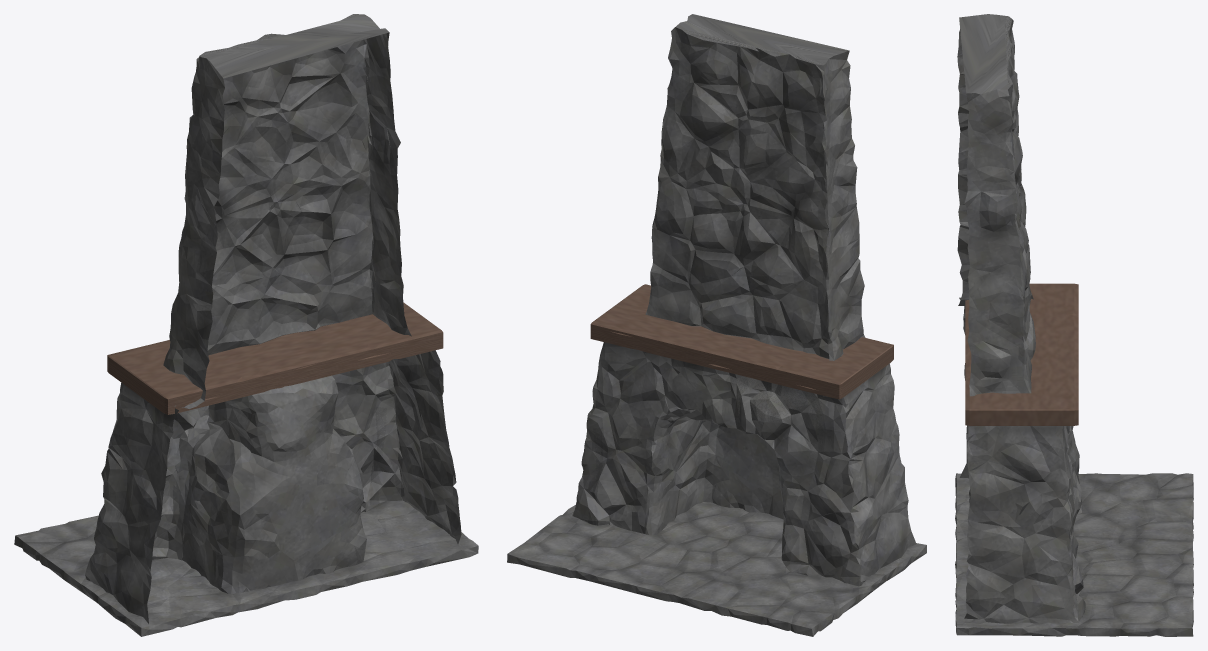
File: fireplace.fbx
3 views of the same model, side by side, from view 1: azimuth 30°, elevation 25°; view 2: azimuth 150°, elevation 25°; view 3: azimuth 270°, elevation 25° (orthographic). The views are drawn at different scales.
Parts seen in each view (by area): view 1: Fireplace.001, Floor, Log; view 2: Fireplace.001, Floor, Log; view 3: Fireplace.001, Floor, Log.
Boxes of the visible parts, <box> form: Fireplace.001: <box>85,14,462,623</box>; Floor: <box>14,500,478,636</box>; Log: <box>107,302,443,414</box>; Fireplace.001: <box>572,14,916,586</box>; Floor: <box>507,502,926,636</box>; Log: <box>590,284,893,399</box>; Fireplace.001: <box>957,14,1085,623</box>; Floor: <box>955,473,1193,636</box>; Log: <box>965,283,1078,425</box>.
Size of the model in its own units: 1617 by 2473 by 1053.
3 materials, 3 textured.
